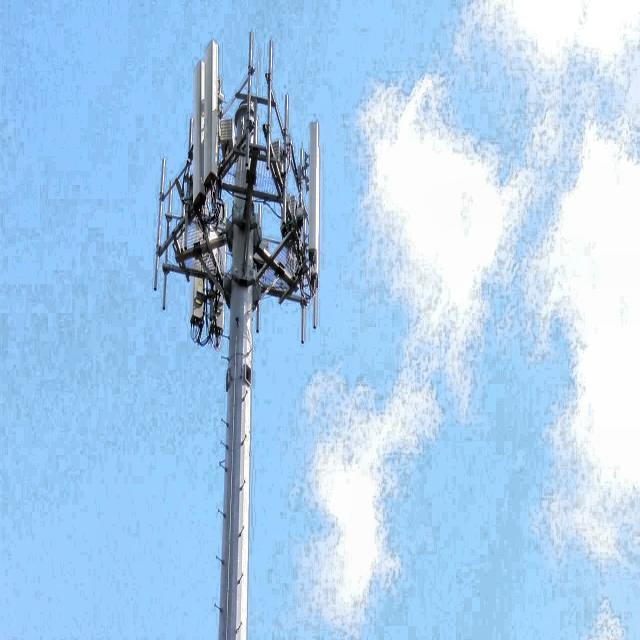antenna: (203, 40, 219, 185), (308, 121, 319, 295), (191, 61, 204, 203), (206, 276, 227, 348), (190, 277, 205, 343)
